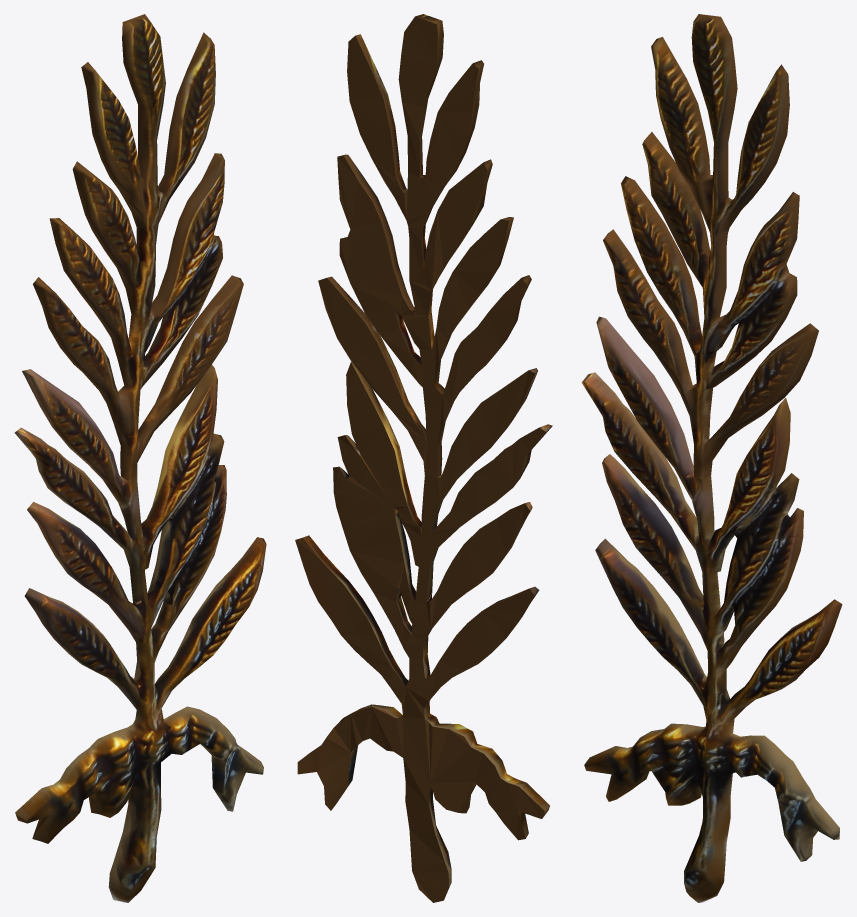
File: Art1154.fbx
3 views of the same model, side by side, from view 1: azimuth 30°, elevation 25°; view 2: azimuth 150°, elevation 25°; view 3: azimuth 330°, elevation 25° (orthographic).
Parts seen in each view (by area): view 1: Mesh_2; view 2: Mesh_2; view 3: Mesh_2.
Boxes of the visible parts, box(x1,y1,x2,y2) form: Mesh_2: box(14, 14, 266, 902); Mesh_2: box(295, 14, 552, 902); Mesh_2: box(581, 14, 842, 902).
Bounding box in the file's own units: 9.19 × 30.98 × 1.01.
1 material, 1 textured.
